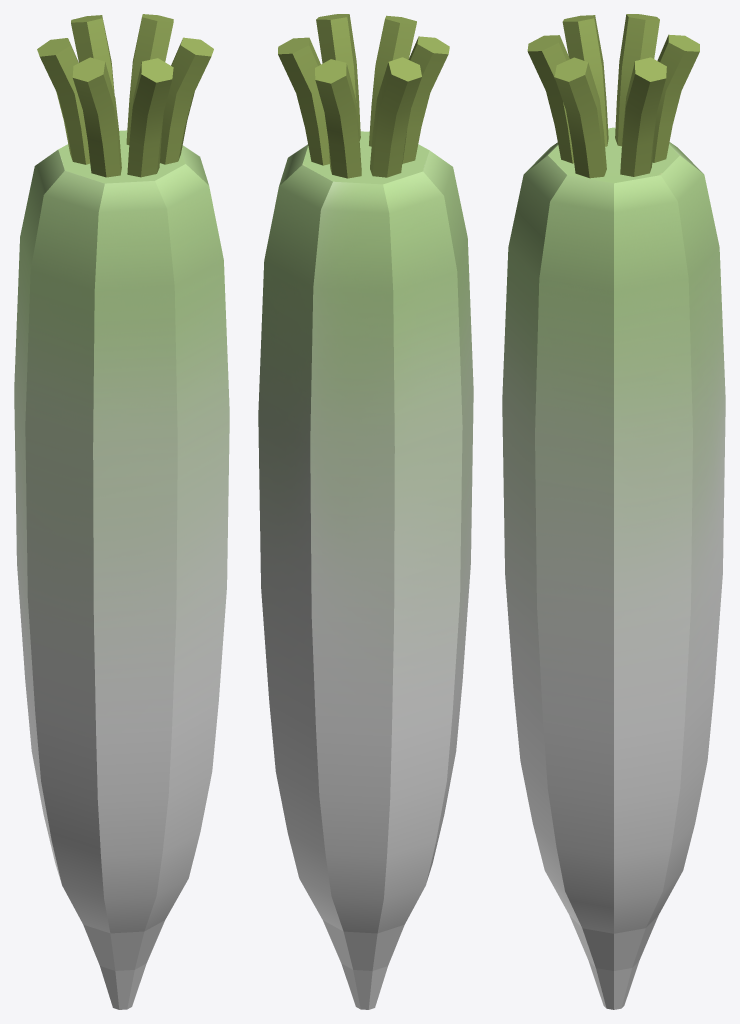
Rendered from daikon01.fbx.
3 renders of one model, left to right at view 1: azimuth 30°, elevation 25°; view 2: azimuth 150°, elevation 25°; view 3: azimuth 270°, elevation 25°, orthographic.
Visible parts, largest first — view 1: daikon01; view 2: daikon01; view 3: daikon01.
Part boxes in pixels (x1=…): daikon01: x1=14, y1=14, x2=229, y2=1009; daikon01: x1=258, y1=14, x2=473, y2=1009; daikon01: x1=502, y1=14, x2=725, y2=1009.
Size of the model in its own units: 18.51 by 88.33 by 18.51.
2 materials, 1 textured.
